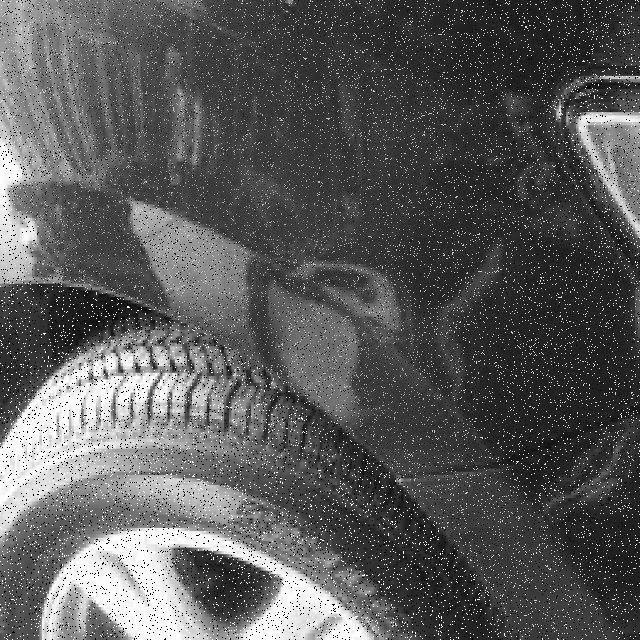fender-dent: (0, 4, 576, 495)
